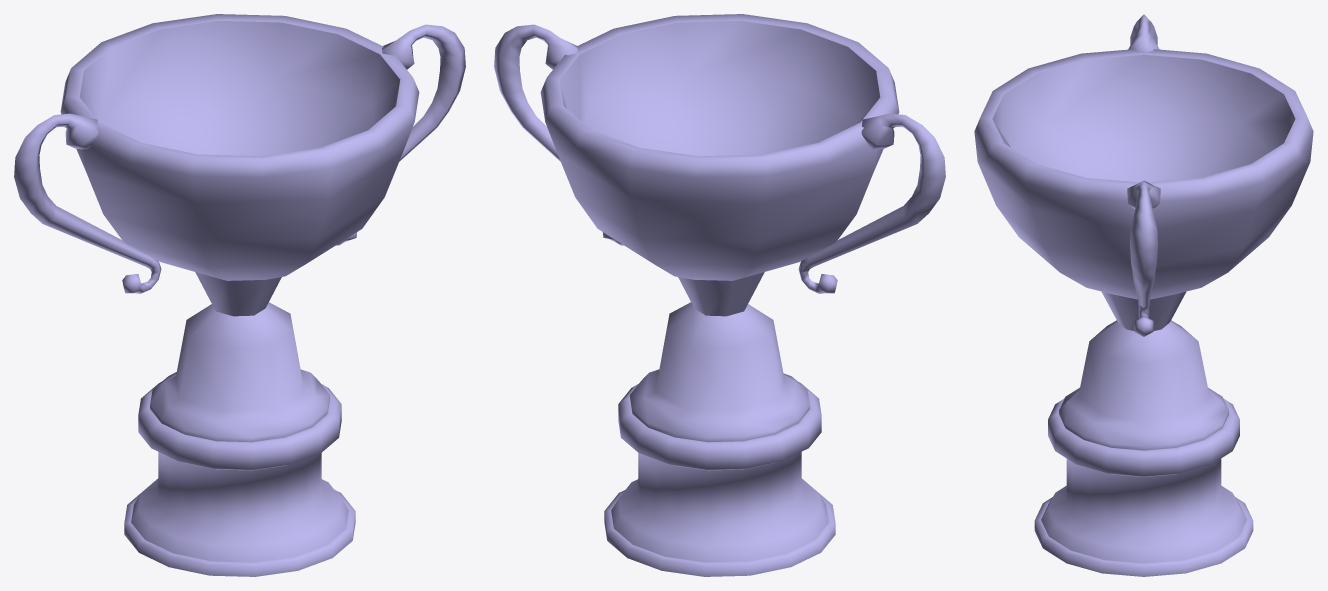
File: Cup_07.fbx
3 views of the same model, side by side, from view 1: azimuth 30°, elevation 25°; view 2: azimuth 150°, elevation 25°; view 3: azimuth 270°, elevation 25° (orthographic). The views are drawn at different scales.
Visible parts, largest first — view 1: Cup_07; view 2: Cup_07; view 3: Cup_07.
Part boxes in pixels (bbox=[...]): Cup_07: bbox=[14, 14, 465, 576]; Cup_07: bbox=[494, 14, 945, 576]; Cup_07: bbox=[974, 14, 1313, 576].
Bounding box in the file's own units: 33.81 × 32.77 × 23.45.
